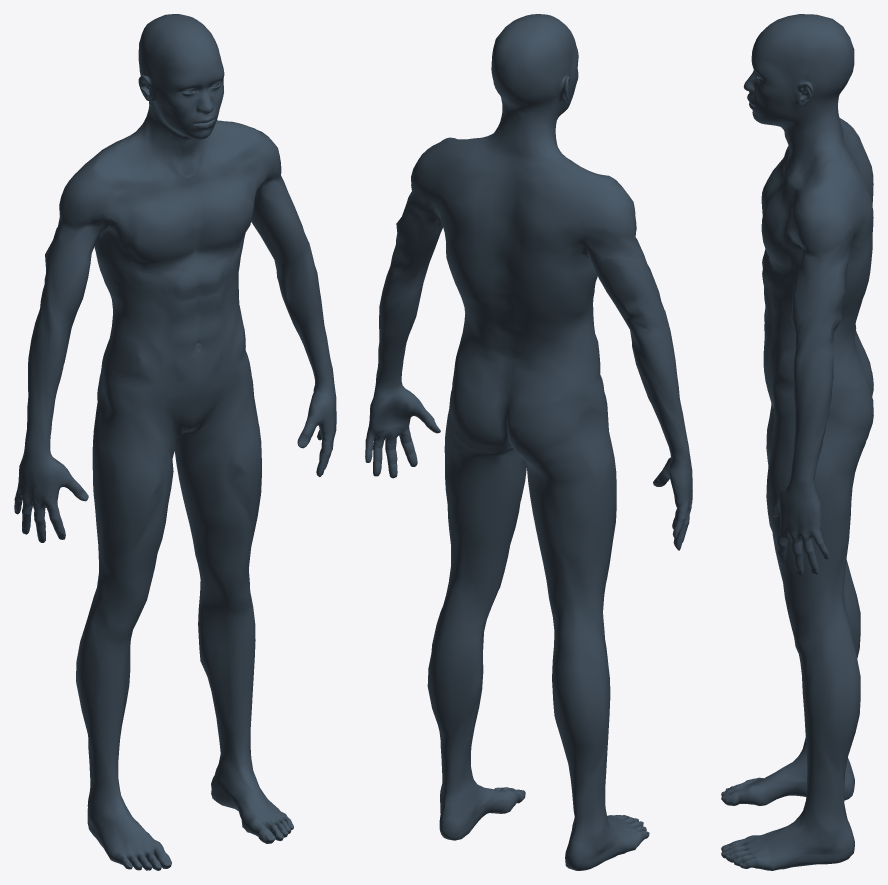
The model's file is twin-natural-v1.glb.
3 renders of one model, left to right at view 1: azimuth 30°, elevation 25°; view 2: azimuth 150°, elevation 25°; view 3: azimuth 270°, elevation 25°, orthographic.
Parts seen in each view (by area): view 1: twin-region:legs, twin-region:neutral, twin-region:arms, twin-region:chest, twin-region:core, twin-region:shoulders, twin-region:abs; view 2: twin-region:legs, twin-region:back, twin-region:neutral, twin-region:arms, twin-region:glutes, twin-region:shoulders, twin-region:core; view 3: twin-region:neutral, twin-region:legs, twin-region:arms, twin-region:shoulders, twin-region:back, twin-region:glutes, twin-region:chest, twin-region:core, twin-region:abs.
Part boxes in pixels (x1,y1,x2,y2): twin-region:legs: [76, 363, 261, 796]; twin-region:neutral: [14, 14, 336, 870]; twin-region:arms: [25, 189, 332, 448]; twin-region:chest: [103, 161, 260, 280]; twin-region:core: [99, 233, 245, 397]; twin-region:shoulders: [48, 122, 294, 266]; twin-region:abs: [158, 260, 231, 383]; twin-region:legs: [427, 392, 616, 825]; twin-region:back: [431, 149, 594, 391]; twin-region:neutral: [365, 14, 692, 870]; twin-region:arms: [375, 209, 689, 462]; twin-region:glutes: [448, 349, 592, 493]; twin-region:shoulders: [402, 137, 649, 282]; twin-region:core: [573, 275, 600, 386]; twin-region:neutral: [721, 14, 854, 870]; twin-region:legs: [766, 398, 860, 820]; twin-region:arms: [791, 263, 847, 489]; twin-region:shoulders: [789, 177, 861, 298]; twin-region:back: [833, 127, 873, 376]; twin-region:glutes: [829, 334, 873, 479]; twin-region:chest: [761, 151, 802, 278]; twin-region:core: [767, 269, 798, 392]; twin-region:abs: [762, 249, 773, 374].
Size of the model in its own units: 0.7525 by 1.85 by 0.3151.
